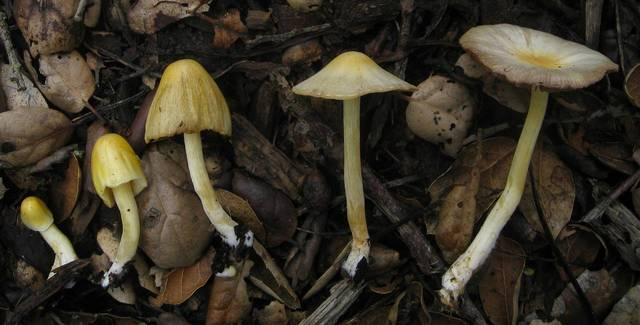edible_mushroom: (435, 21, 619, 308), (291, 49, 418, 279), (142, 57, 252, 261), (89, 132, 148, 287), (19, 194, 80, 278)
